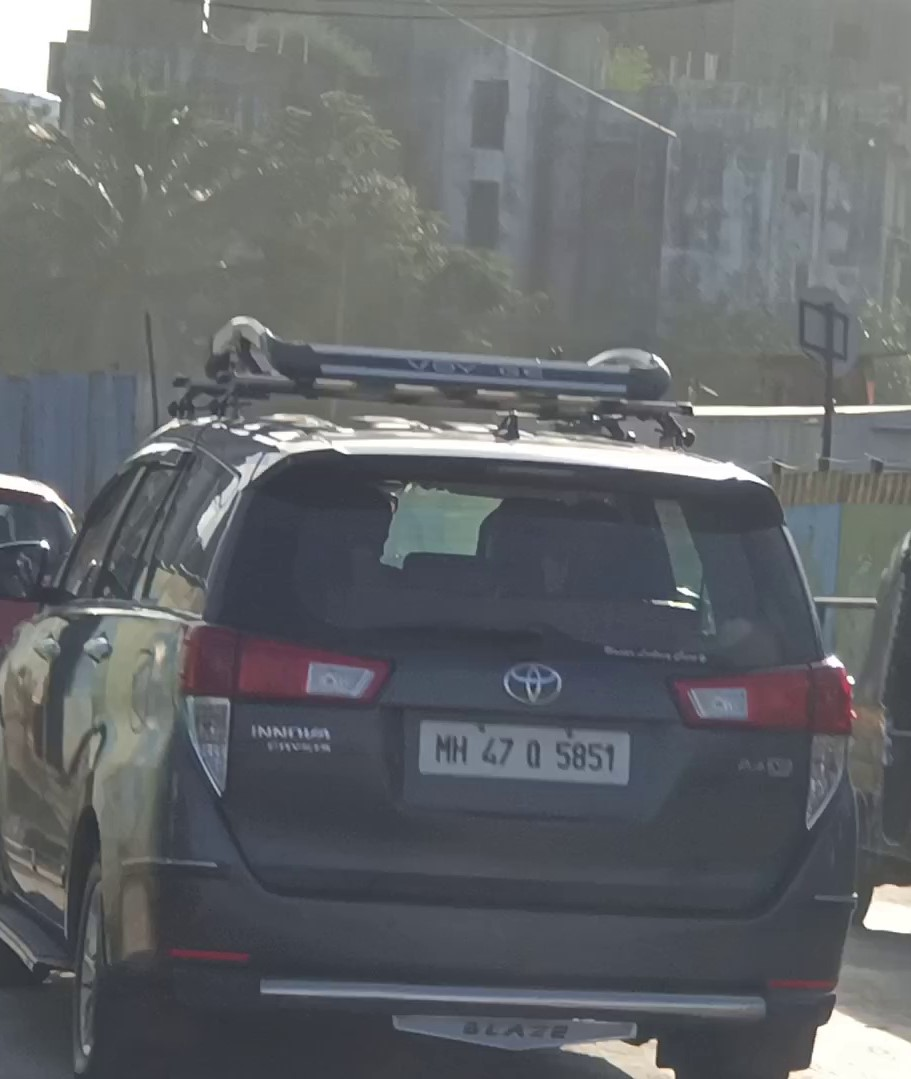MH4705851: (419, 719, 629, 787)
